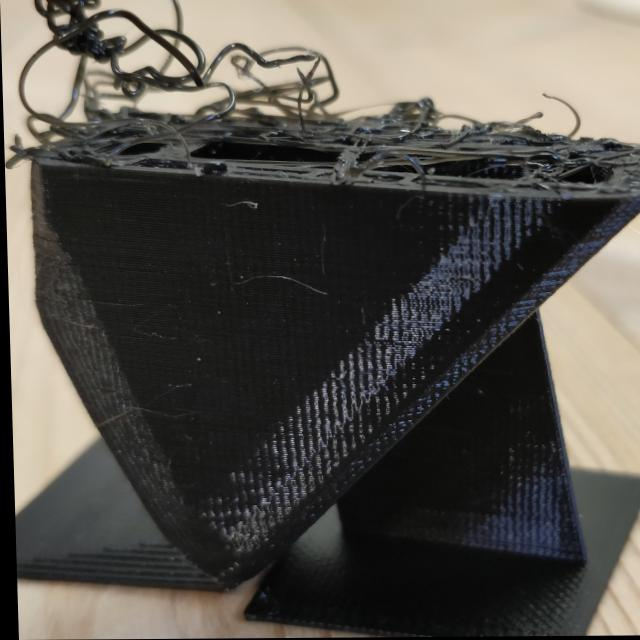spaghetti: (4, 0, 640, 209)
